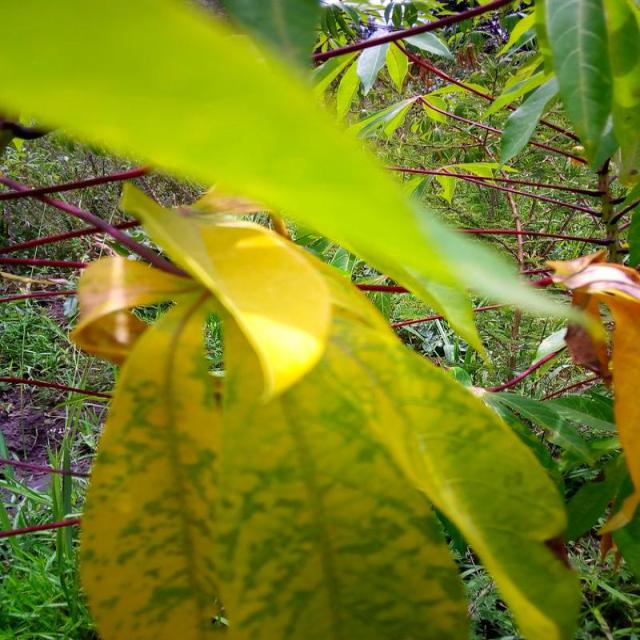cassava leaf: (76, 183, 582, 638)
